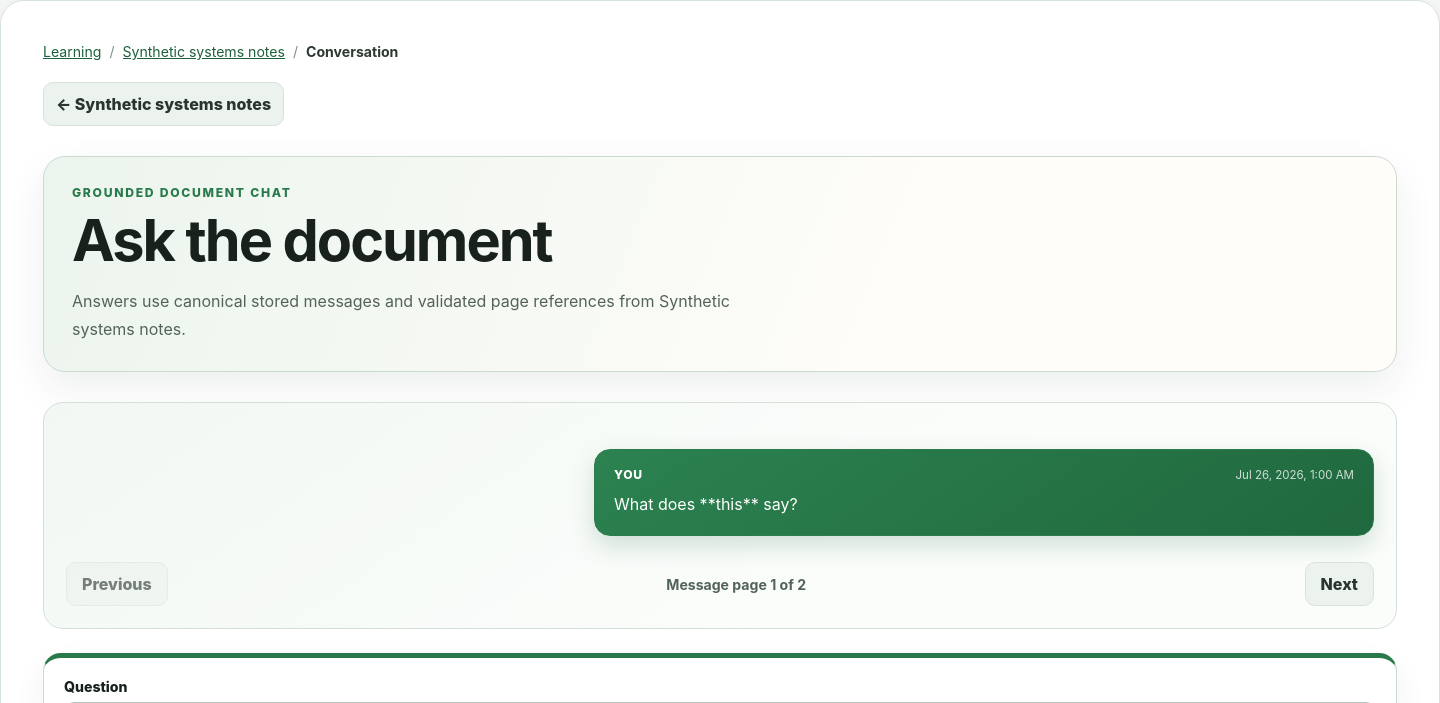
it: Learning conversation workspace › paginates canonical history without retaining the old page
expect the text "What does **this** say?" is shown: met, box [614,494,798,514]
Click the button with aria-label "Next message page": (1339, 584) [1305,562,1374,606]
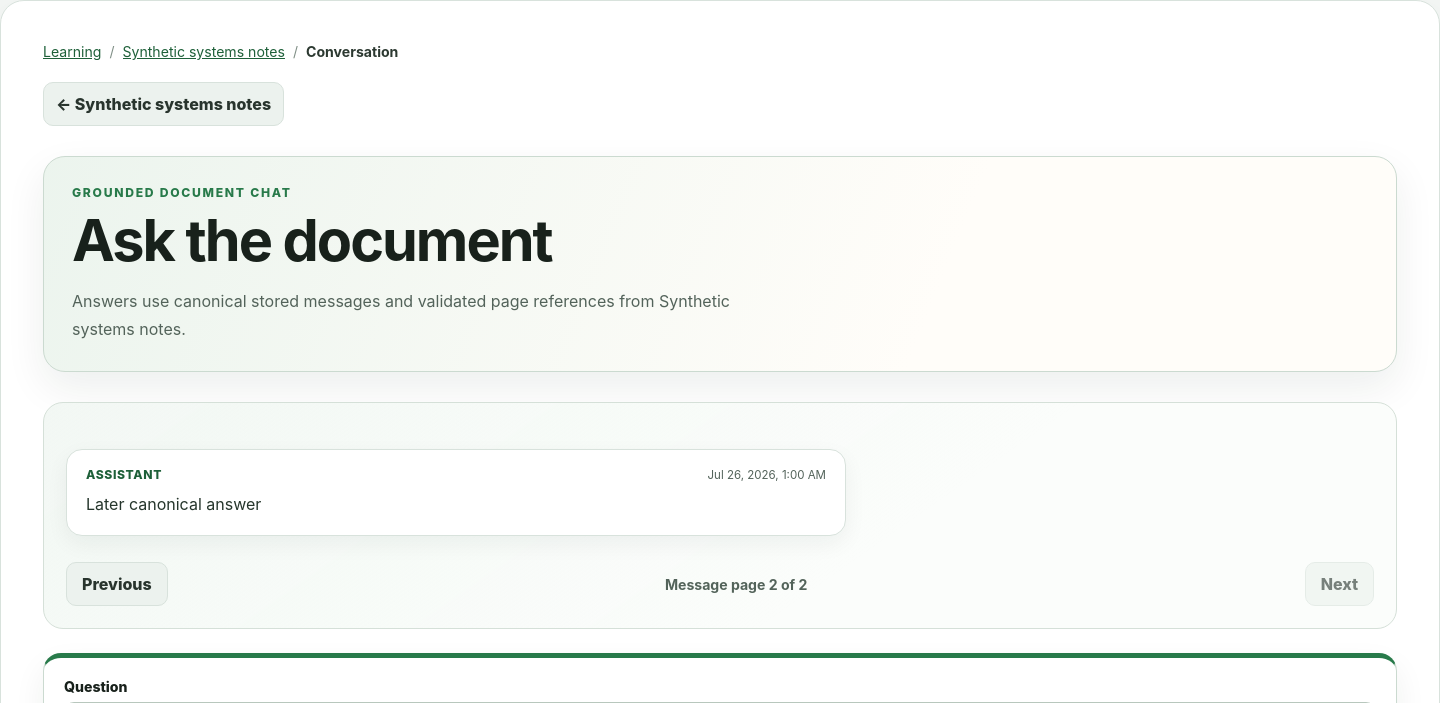
expect the text "Later canonical answer" is shown: met, box [86,494,261,514]
expect the text "What does **this** say?" is gone: met
